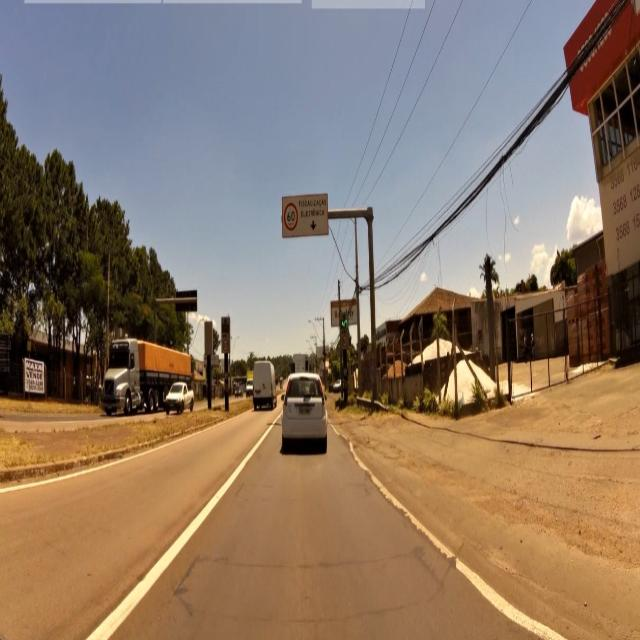R-19: (282, 199, 300, 234)
